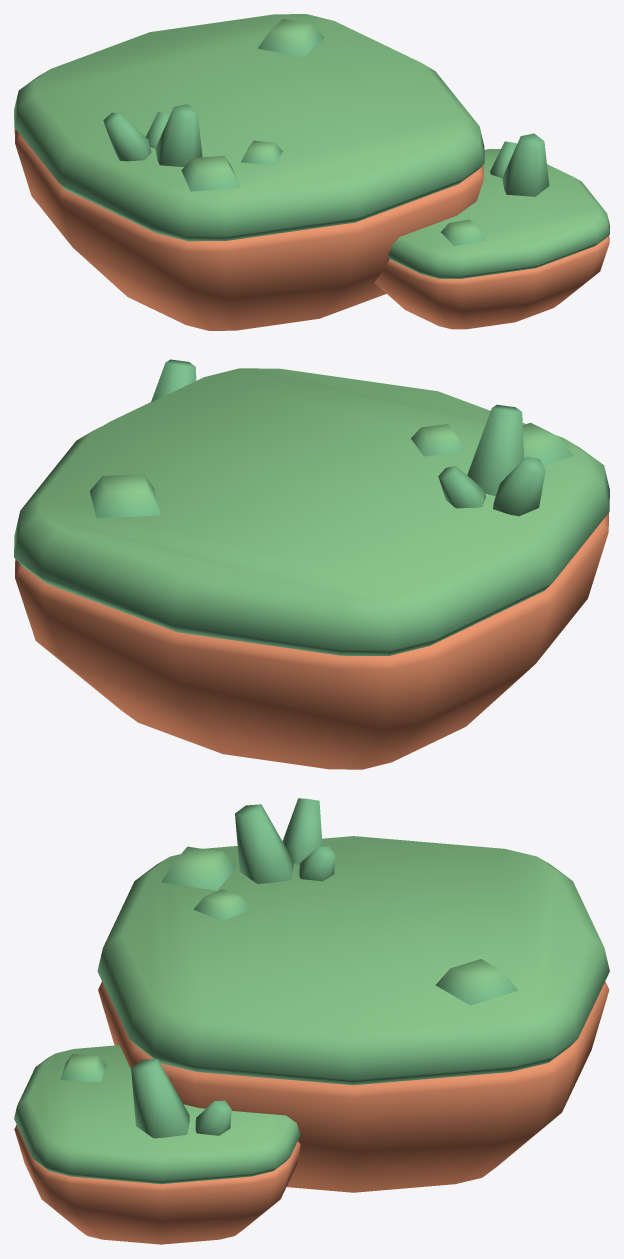
Rendered from asset-088.glb.
The picture shows the model from 3 angles, top to bottom: view 1: azimuth 30°, elevation 25°; view 2: azimuth 150°, elevation 25°; view 3: azimuth 270°, elevation 25°; orthographic projection. The views are drawn at different scales.
Parts seen in each view (by area): view 1: platform; view 2: platform; view 3: platform.
Boxes of the visible parts, x1,y1,x2,y2 form: platform: (14, 14, 609, 330); platform: (14, 359, 609, 769); platform: (14, 798, 609, 1244).
Bounding box in the file's own units: 1.28 × 0.6 × 1.28.
1 material, 1 textured.
